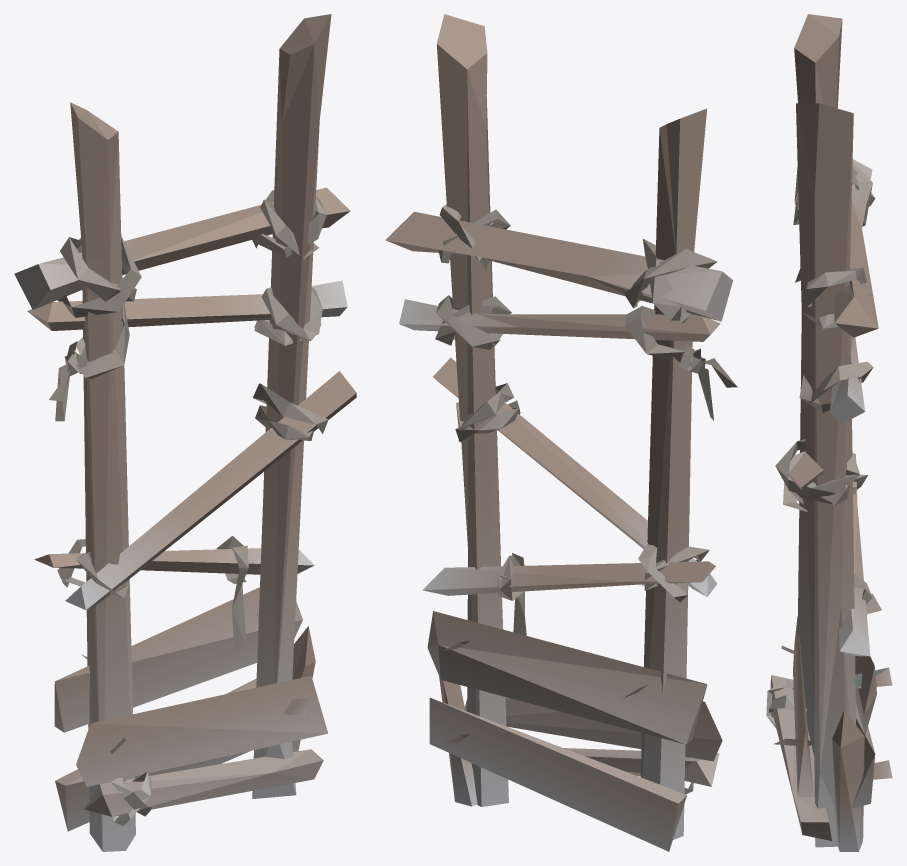
The model's file is Terrain_Stage2_Decoration_4.fbx.
3 views of the same model, side by side, from view 1: azimuth 30°, elevation 25°; view 2: azimuth 150°, elevation 25°; view 3: azimuth 270°, elevation 25° (orthographic).
Parts seen in each view (by area): view 1: terrain_shelf_402_LOD1; view 2: terrain_shelf_402_LOD1; view 3: terrain_shelf_402_LOD1.
Part boxes in pixels (x1,y1,x2,y2): terrain_shelf_402_LOD1: [14, 14, 356, 851]; terrain_shelf_402_LOD1: [385, 14, 737, 851]; terrain_shelf_402_LOD1: [766, 14, 892, 851].
Size of the model in its own units: 612 by 1419 by 212.
Materials: 1 (1 with a texture image).
